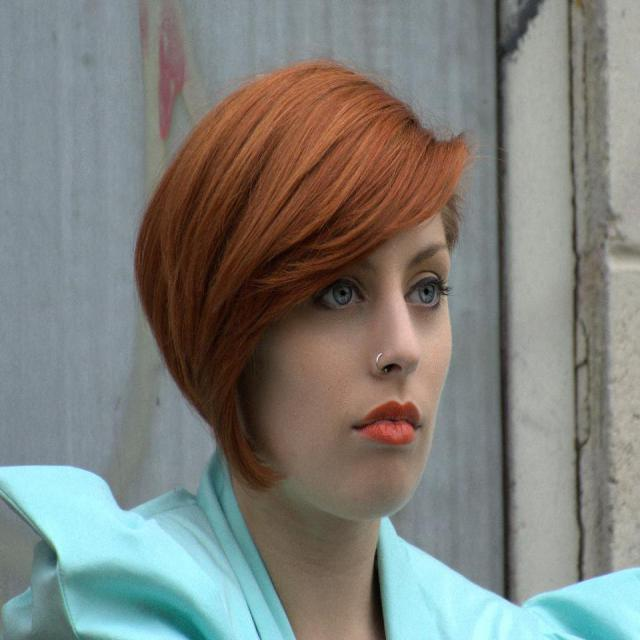closed-mouth: (352, 399, 423, 448)
